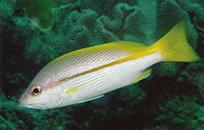Lutjanidae -Snappers-: (14, 12, 204, 111)
